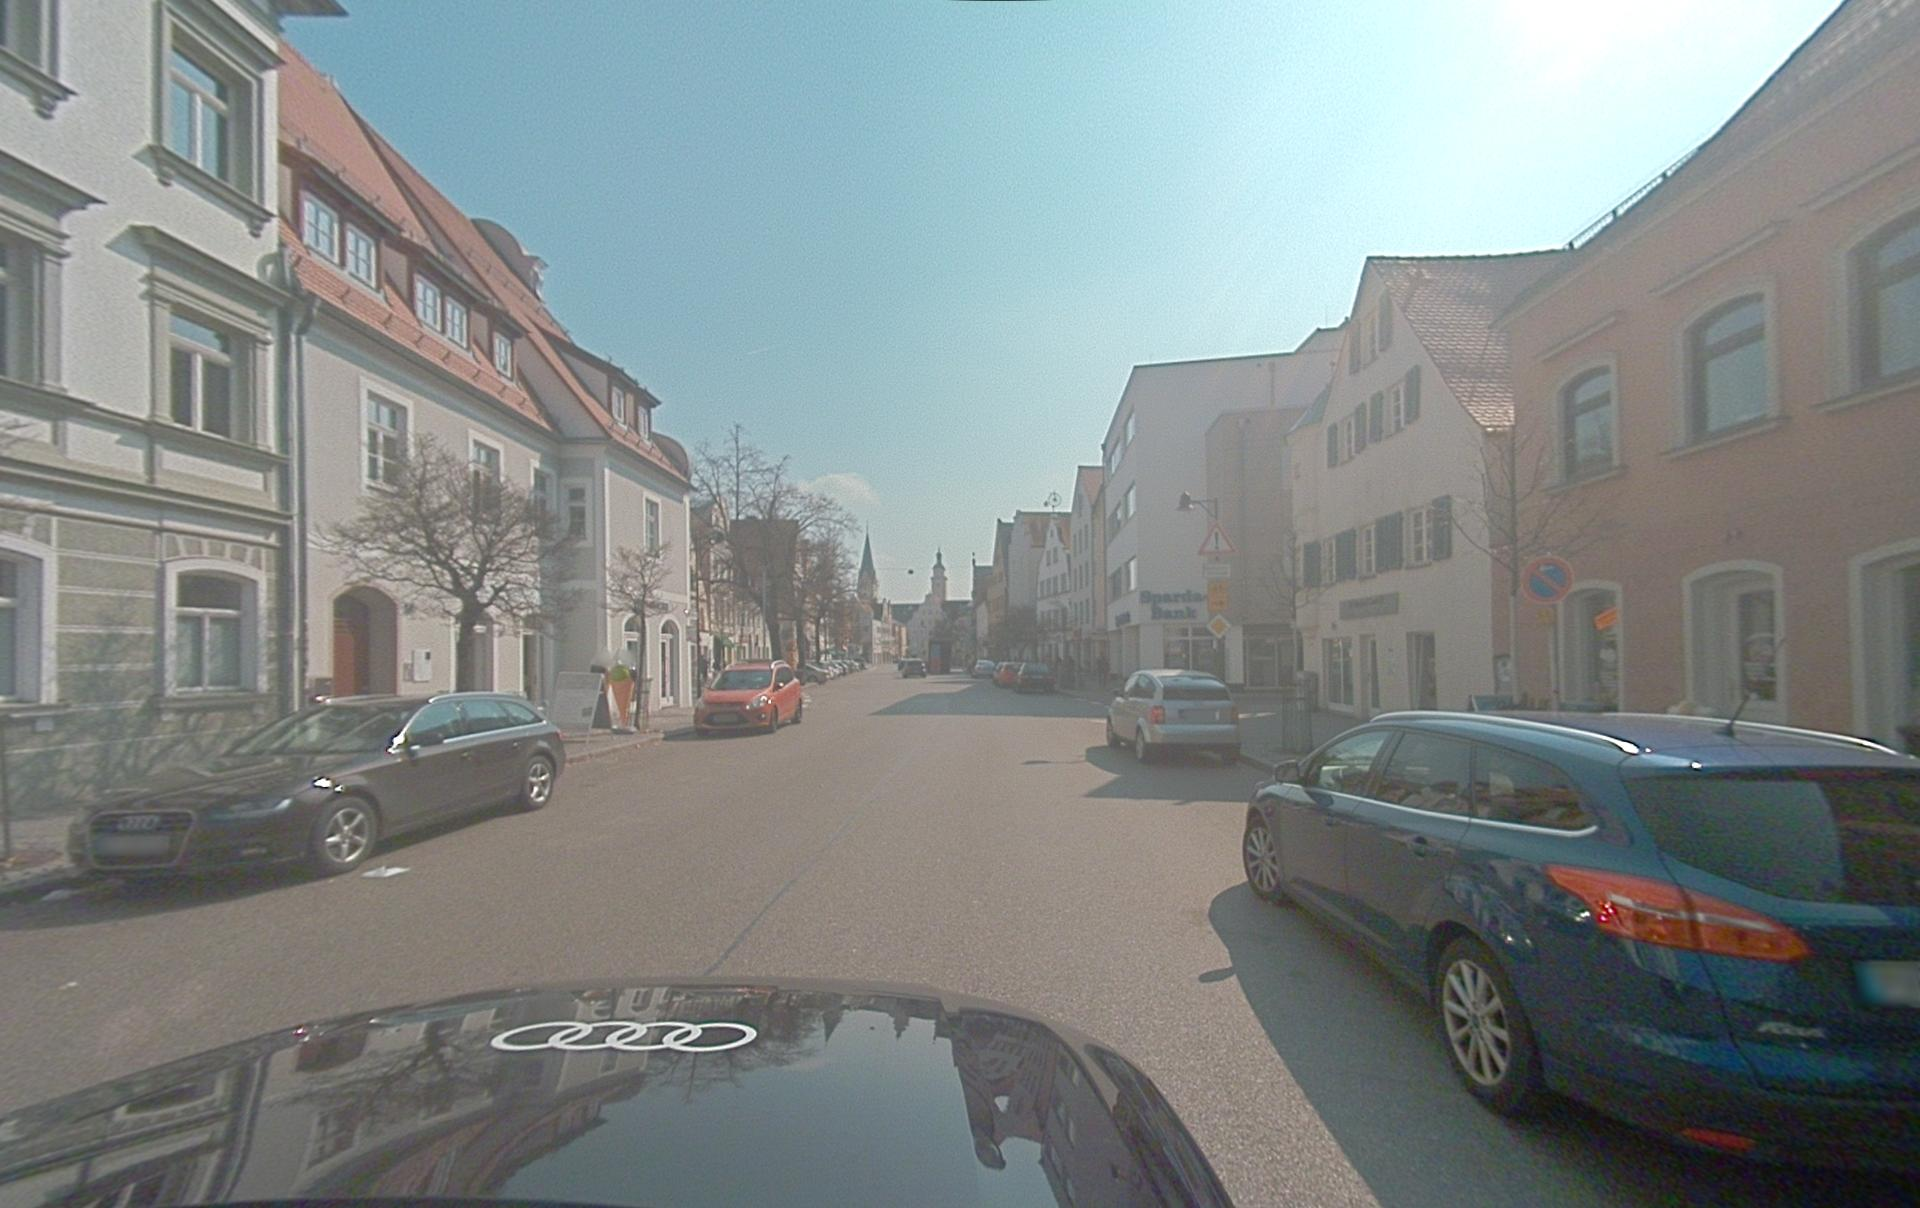car: (1241, 705, 1919, 1178), (0, 975, 1238, 1207), (65, 690, 567, 886), (1106, 668, 1241, 765), (694, 659, 804, 736), (1013, 663, 1055, 693), (992, 661, 1020, 688), (898, 657, 927, 678), (972, 659, 996, 676)
traffic sign: (1521, 555, 1575, 606)
